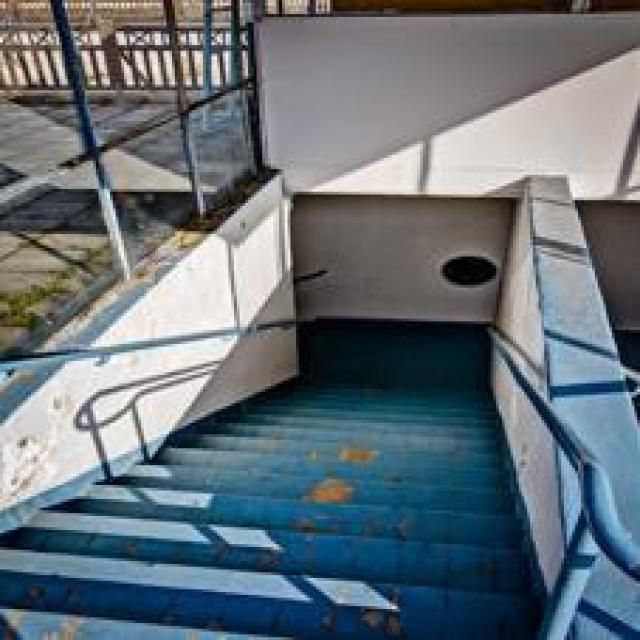downstair: (29, 432, 534, 630)
